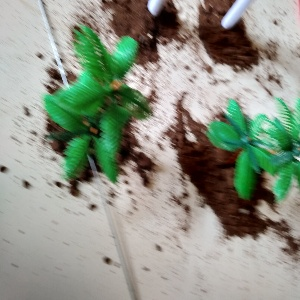plant: (44, 26, 148, 179), (205, 88, 300, 192)
